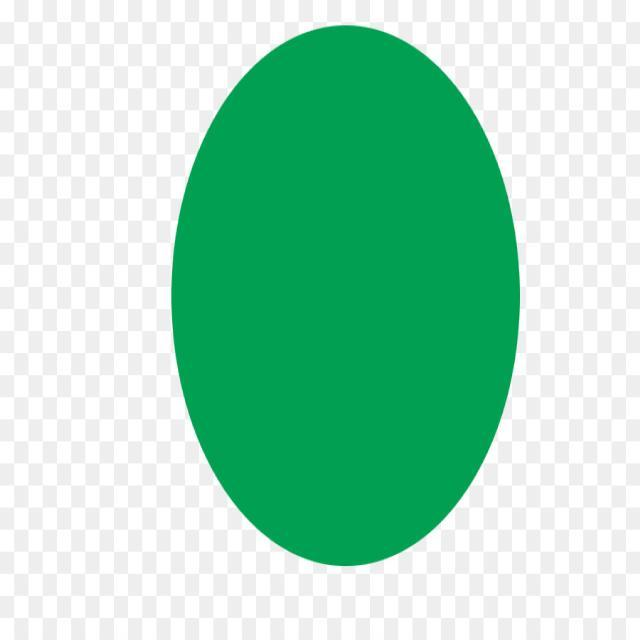Circle: (169, 23, 523, 569)
